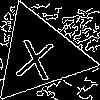X: (14, 30, 57, 81)
